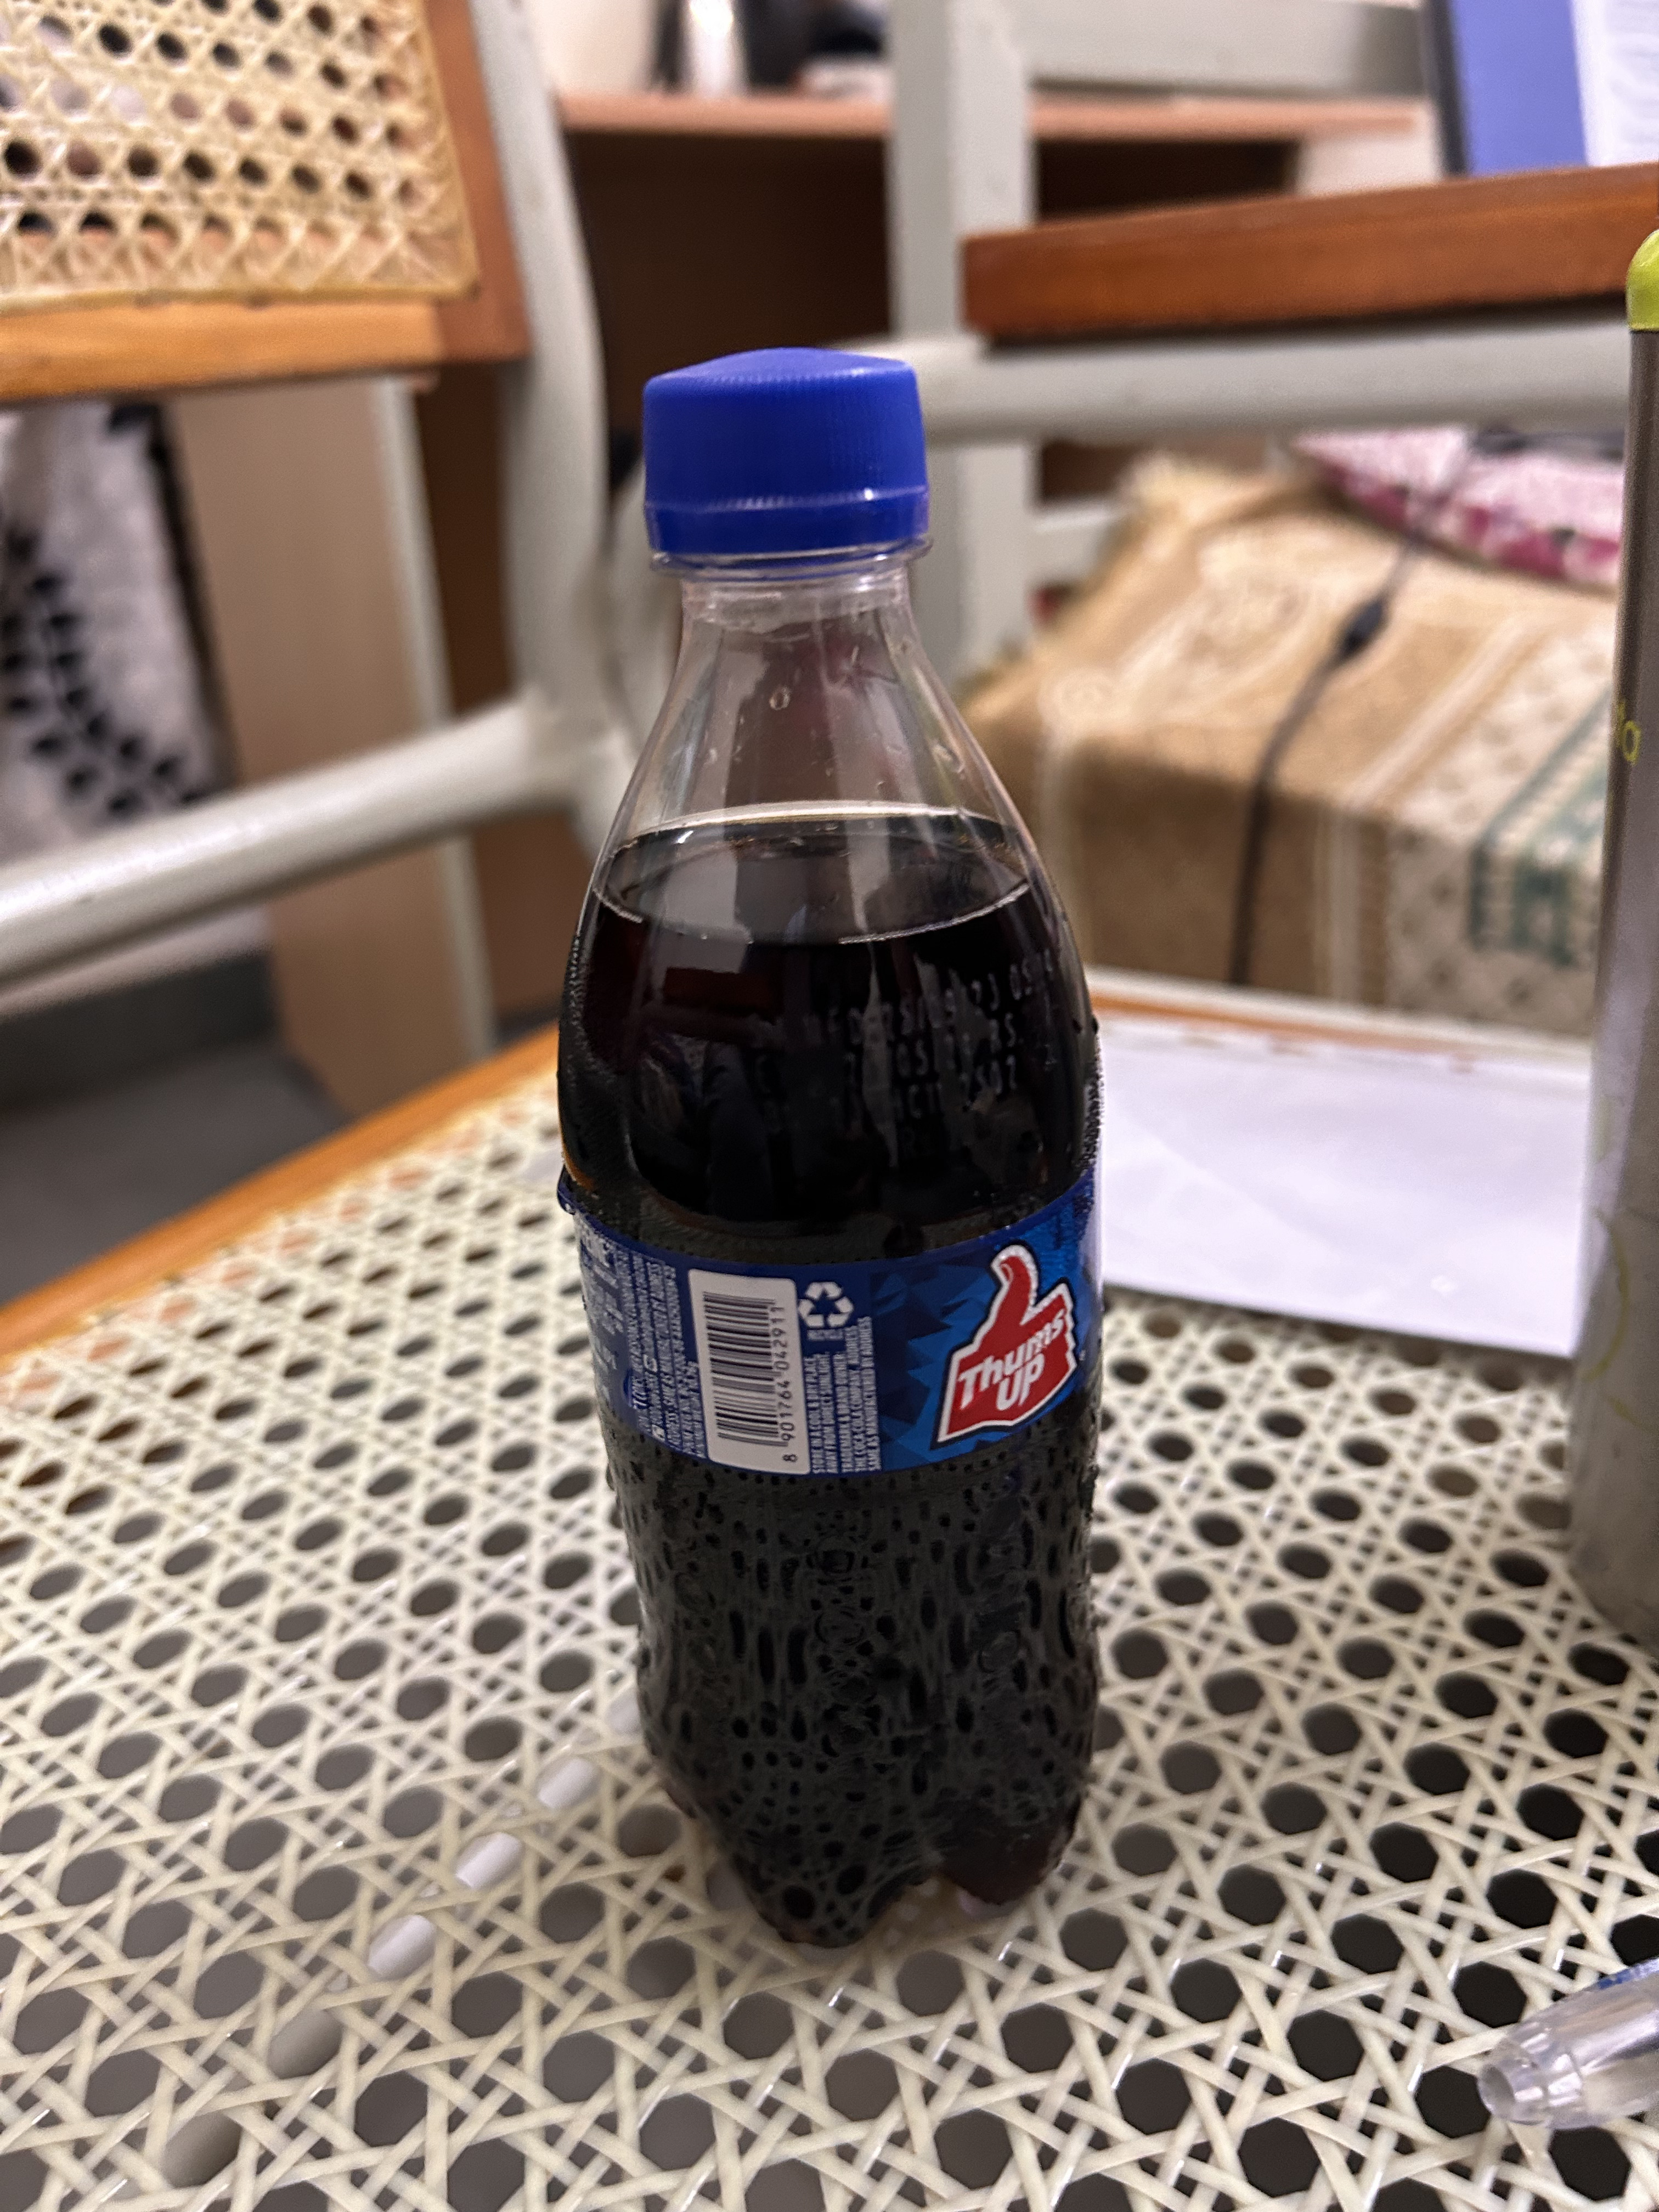sealstable: (601, 319, 1000, 702)
